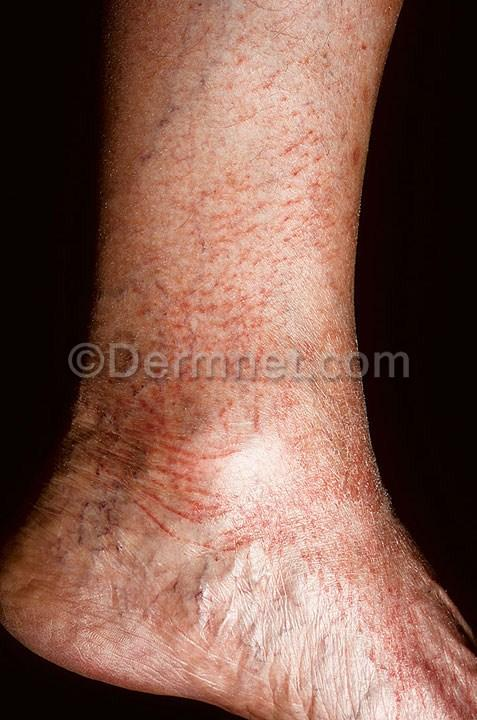Eczema: (161, 539, 285, 633)
